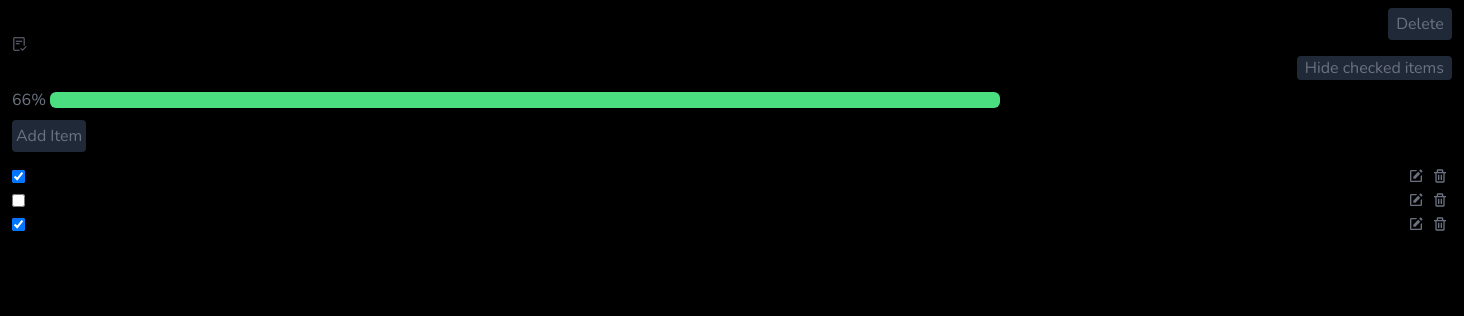
Test: CardCheckList › should toggle form when "Add Item" button is clicked
Click the button "Add Item" at (49, 136), box x1=12 y1=120 x2=86 y2=152
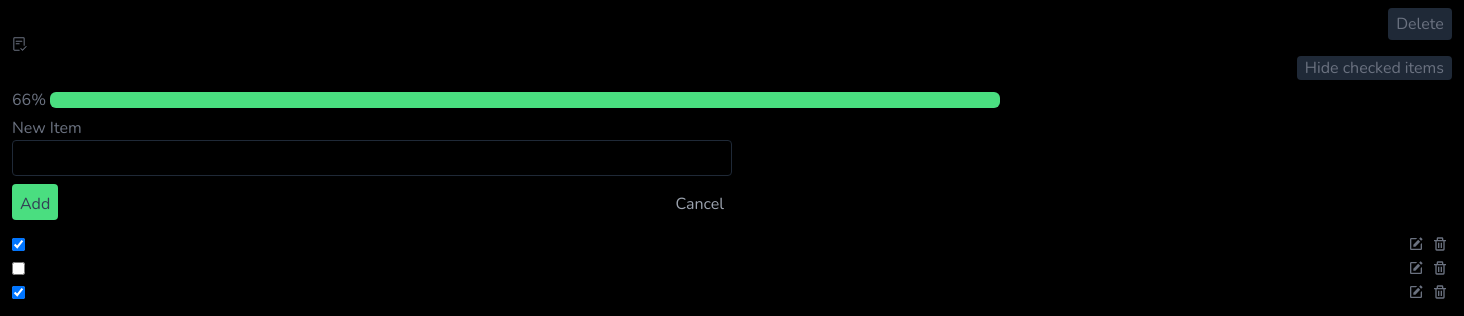
Expected: the form with test id "CardCheckListItemForm" is shown, x1=12 y1=117 x2=732 y2=220
